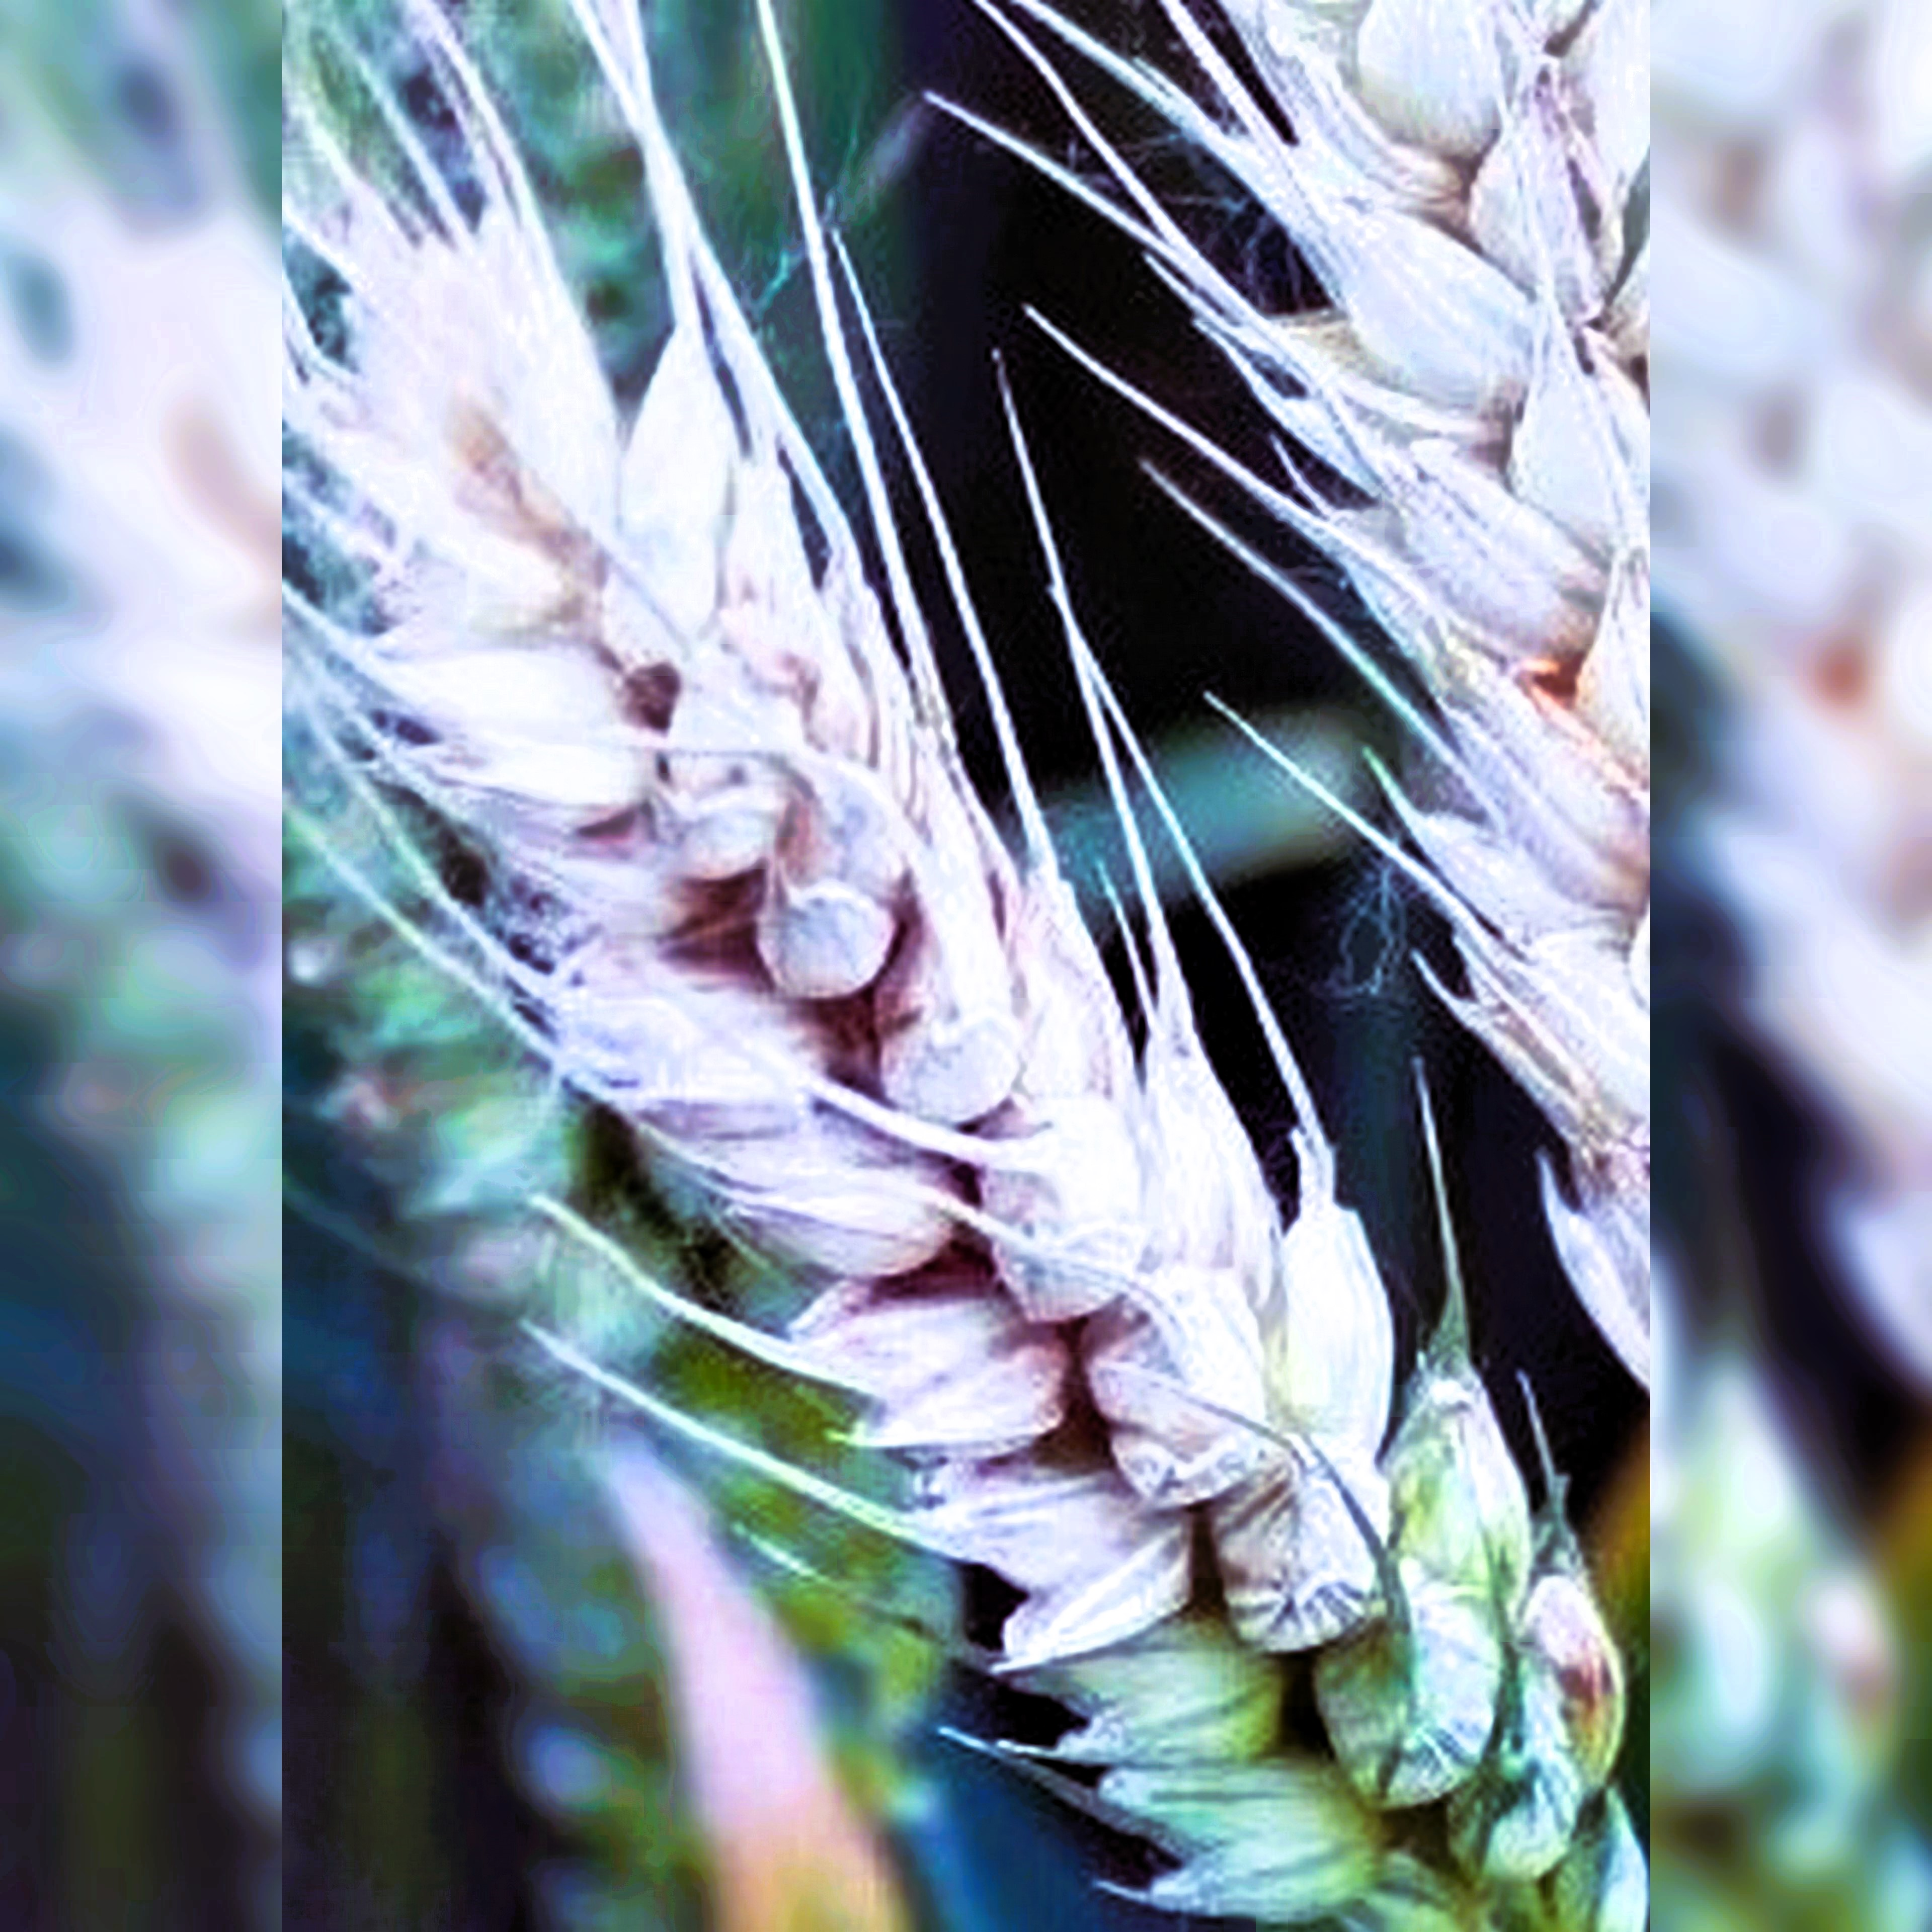Wheat scab: (833, 1090, 1629, 1923)
